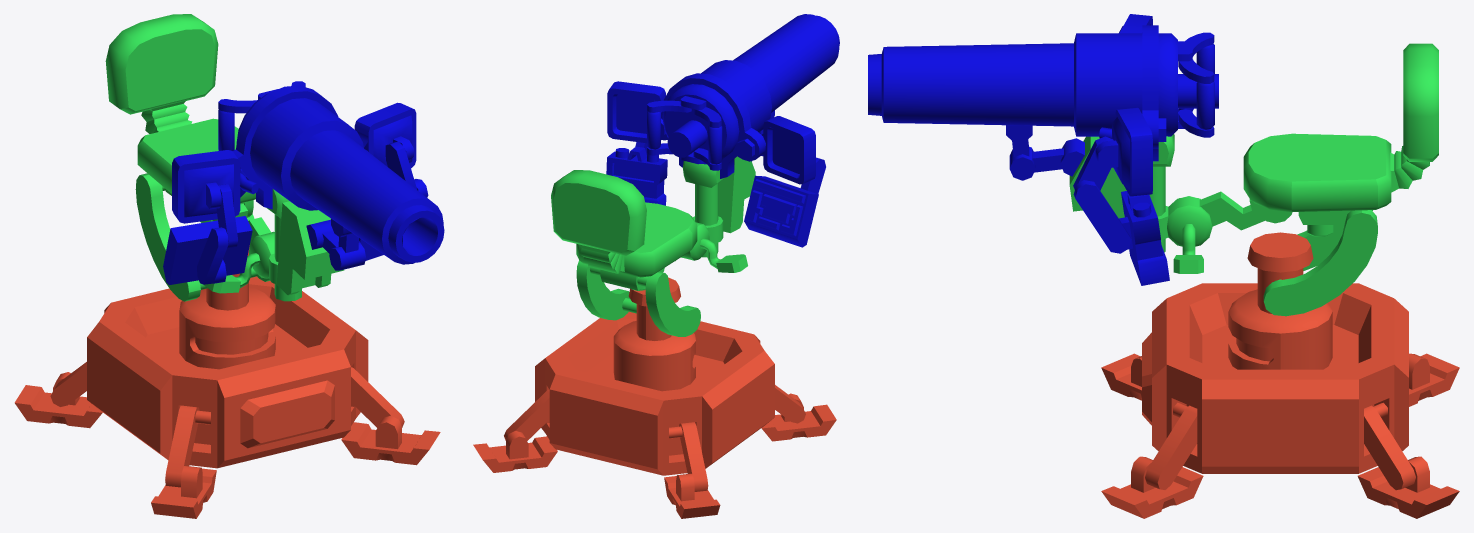
Rendered from obj_interactive_cannon_base.fbx.
The picture shows the model from 3 angles, left to right: view 1: azimuth 30°, elevation 25°; view 2: azimuth 150°, elevation 25°; view 3: azimuth 270°, elevation 25°; orthographic projection. The views are drawn at different scales.
Parts seen in each view (by area): view 1: obj_interactive_turret_base_lp; view 2: obj_interactive_turret_base_lp; view 3: obj_interactive_turret_base_lp.
Part boxes in pixels (x1,y1,x2,y2): obj_interactive_turret_base_lp: [14, 14, 444, 518]; obj_interactive_turret_base_lp: [473, 14, 839, 518]; obj_interactive_turret_base_lp: [868, 14, 1459, 518].
Size of the model in its own units: 6.89 by 8.84 by 11.37.
